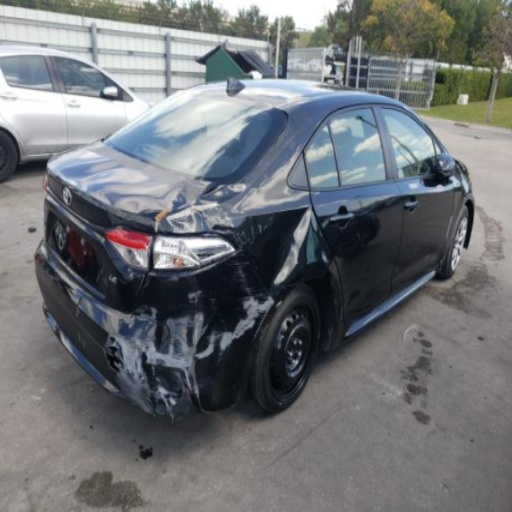dent: (195, 259, 265, 387), (156, 177, 250, 234), (256, 207, 311, 288), (109, 194, 185, 231), (153, 309, 201, 362), (140, 351, 189, 400), (111, 259, 148, 312), (329, 273, 343, 349), (102, 336, 126, 372), (117, 318, 147, 343)
scratch: (93, 302, 211, 408), (220, 296, 274, 351), (114, 361, 155, 416), (191, 198, 234, 234), (198, 353, 227, 403), (190, 249, 241, 275), (166, 206, 203, 233), (152, 384, 177, 423), (194, 330, 223, 361), (252, 309, 269, 343), (231, 261, 248, 283), (230, 228, 249, 247), (97, 264, 108, 296), (173, 369, 185, 393), (187, 290, 204, 305), (332, 282, 338, 317), (76, 331, 86, 348), (242, 285, 256, 296), (160, 275, 179, 283), (209, 299, 219, 313), (187, 388, 193, 408), (148, 269, 161, 277), (169, 394, 178, 404), (137, 315, 151, 320), (217, 351, 223, 362), (275, 300, 281, 308), (75, 308, 80, 317), (268, 218, 274, 225), (152, 365, 155, 375), (256, 294, 265, 297), (155, 377, 161, 381), (249, 240, 253, 245), (149, 320, 152, 325), (150, 315, 152, 319)
